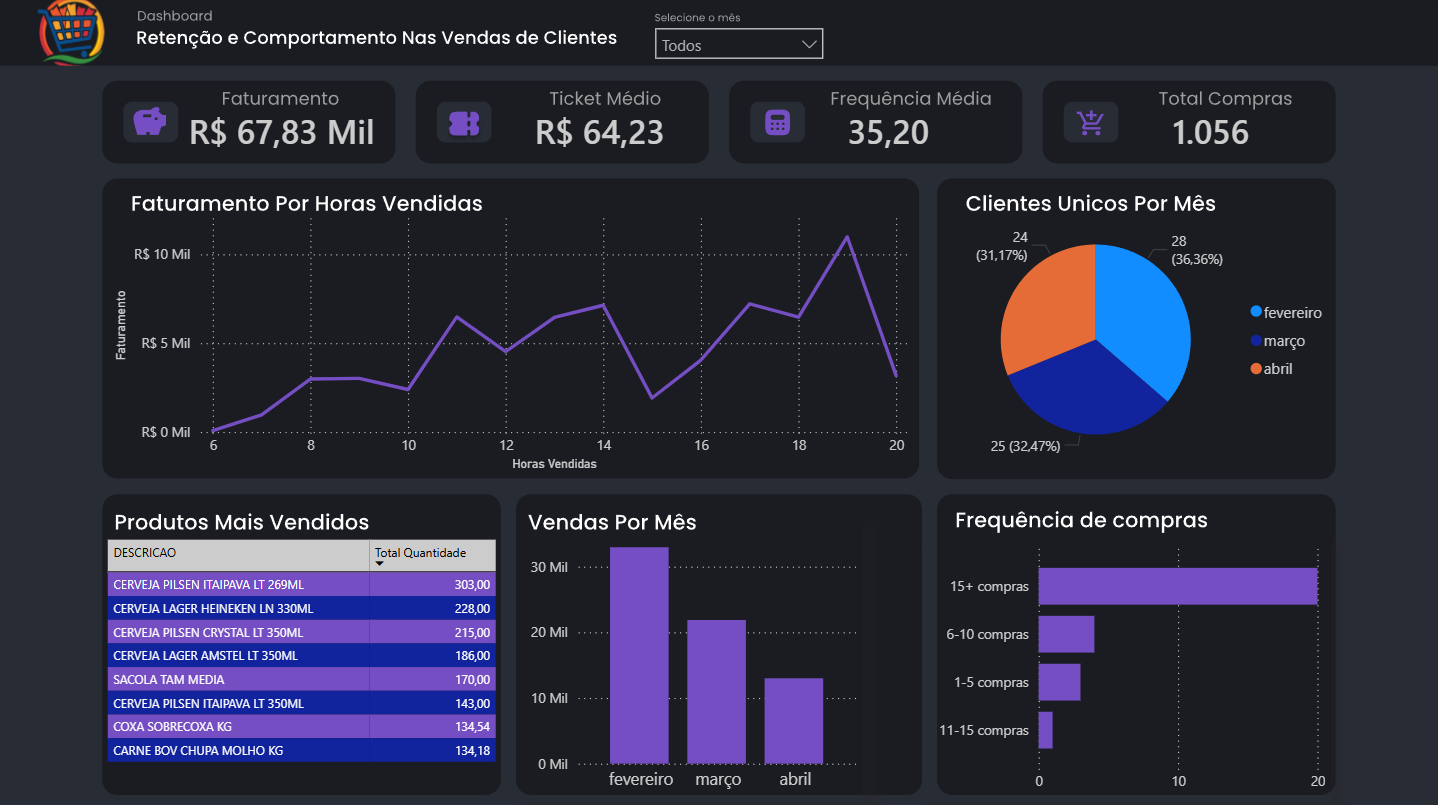

The page's visual inventory and layout, read from the dashboard file:
{"tool":"powerbi","page":{"name":"Dashboard","canvas":[1280,720],"ordinal":0},"visuals":[{"type":"cardVisual","title":"Faturamento Total","fields":{"Data":["Vendas.Faturamento"]},"box":[149,61.2,243,108.2],"z":0},{"type":"lineStackedColumnComboChart","title":"Vendas Por Mês","fields":{"Y":["Sum(Vendas.VALOR)"],"Category":["Vendas.DATA.Variation.Hierarquia de datas.Mês"]},"box":[468.2,461.1,299.7,251.8],"z":1000},{"type":"pieChart","fields":{"Y":["Clientes.Clientes Unicos"],"Category":["Vendas.DATA.Variation.Hierarquia de datas.Mês"]},"box":[833.5,153.4,355.6,298.8],"z":2000},{"type":"clusteredBarChart","title":"Frequência De Compras De Clientes","fields":{"Category":["Clientes.Faixa Frequência"],"Y":["Count(Vendas.CODIGO CLIENTE)"]},"box":[824.6,475.3,358.2,237.6],"z":3000},{"type":"tableEx","title":"Produtos Mais Vendidos","fields":{"Values":["Itens.DESCRICAO","Itens.Total Quantidade"]},"box":[91.9,475.2,356.9,222.9],"z":4000},{"type":"lineChart","fields":{"Y":["Vendas.Faturamento"],"Category":["Vendas.Horas Vendidas"]},"box":[99.3,181.8,712.9,242.1],"z":5000},{"type":"slicer","fields":{"Values":["Vendas.DATA.Variation.Hierarquia de datas.Mês"]},"box":[573.7,16.8,169.4,50.5],"z":6000},{"type":"cardVisual","title":"Faturamento Total","fields":{"Data":["Vendas.Ticket Medio"]},"box":[455.8,61.2,184.4,108.2],"z":7000},{"type":"cardVisual","title":"Faturamento Total","fields":{"Data":["Vendas.Frequência Media"]},"box":[733.3,61.2,138.3,108.2],"z":8000},{"type":"cardVisual","title":"Faturamento Total","fields":{"Data":["Vendas.Total Cupons Formatado"]},"box":[1021.5,61.2,185.3,108.2],"z":9000}]}

Visuals, with their boxes in screenshot pixels (x1, y1, x2, y2), scaled from the page's 1280x720 canvas onto the 1438x805 screenshot:
"Faturamento Total" cardVisual: pyautogui.locateOnScreen(167, 68, 440, 189)
"Vendas Por Mês" lineStackedColumnComboChart: pyautogui.locateOnScreen(526, 516, 863, 797)
pieChart - Clientes.Clientes Unicos x Vendas.DATA.Variation.Hierarquia de datas.Mês: pyautogui.locateOnScreen(936, 172, 1336, 506)
"Frequência De Compras De Clientes" clusteredBarChart: pyautogui.locateOnScreen(926, 531, 1329, 797)
"Produtos Mais Vendidos" tableEx: pyautogui.locateOnScreen(103, 531, 504, 781)
lineChart - Vendas.Faturamento x Vendas.Horas Vendidas: pyautogui.locateOnScreen(112, 203, 912, 474)
slicer - Vendas.DATA.Variation.Hierarquia de datas.Mês: pyautogui.locateOnScreen(645, 19, 835, 75)
"Faturamento Total" cardVisual: pyautogui.locateOnScreen(512, 68, 719, 189)
"Faturamento Total" cardVisual: pyautogui.locateOnScreen(824, 68, 979, 189)
"Faturamento Total" cardVisual: pyautogui.locateOnScreen(1148, 68, 1356, 189)
